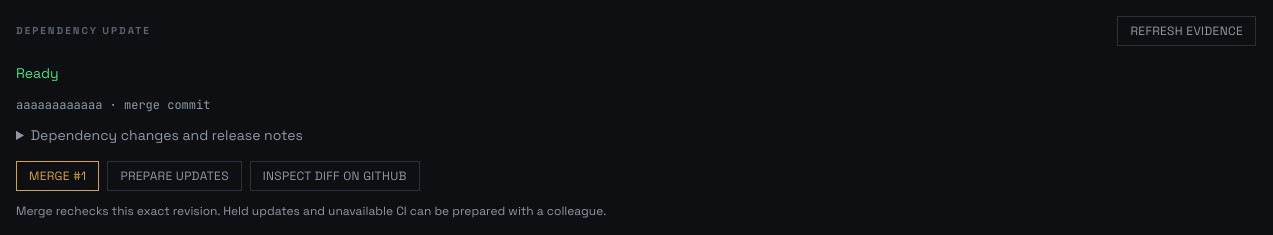
Test: Dependabot merge control › passes the inspected head, reports a race and requires new evidence after refusal
What coordinates should you click on to do the following:
click the button "Merge #1"
I would click on:
 (58, 176)
Its box is [16,161,99,191].
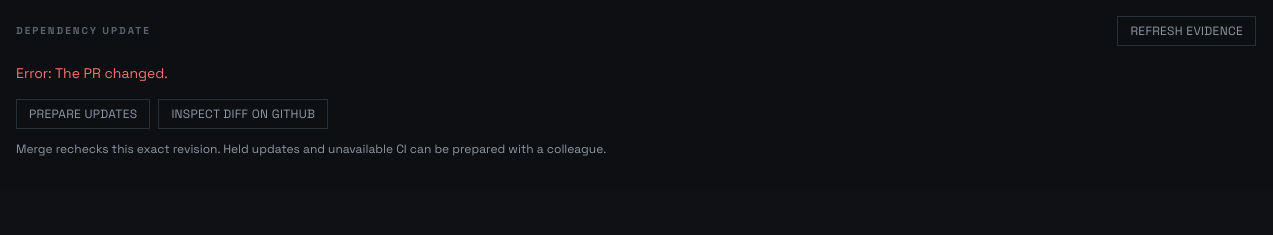
Check: the text "The PR changed." is shown, box [16,64,168,82]
